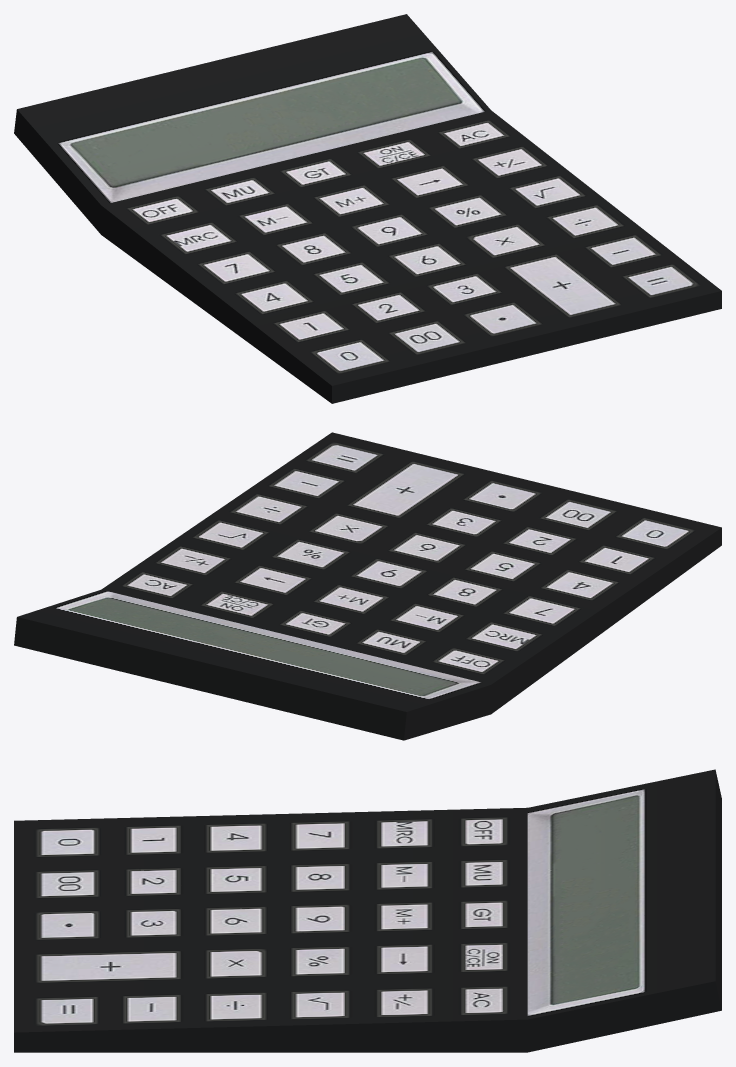
File: Calculator.fbx
3 views of the same model, one above another, from view 1: azimuth 30°, elevation 25°; view 2: azimuth 150°, elevation 25°; view 3: azimuth 270°, elevation 25° (orthographic). The views are drawn at different scales.
Parts seen in each view (by area): view 1: Calculator; view 2: Calculator; view 3: Calculator.
Boxes of the visible parts, bbox=[...] form: Calculator: bbox=[14, 14, 721, 403]; Calculator: bbox=[14, 432, 721, 740]; Calculator: bbox=[14, 769, 721, 1052].
Size of the model in its own units: 10 by 1.57 by 14.13.
